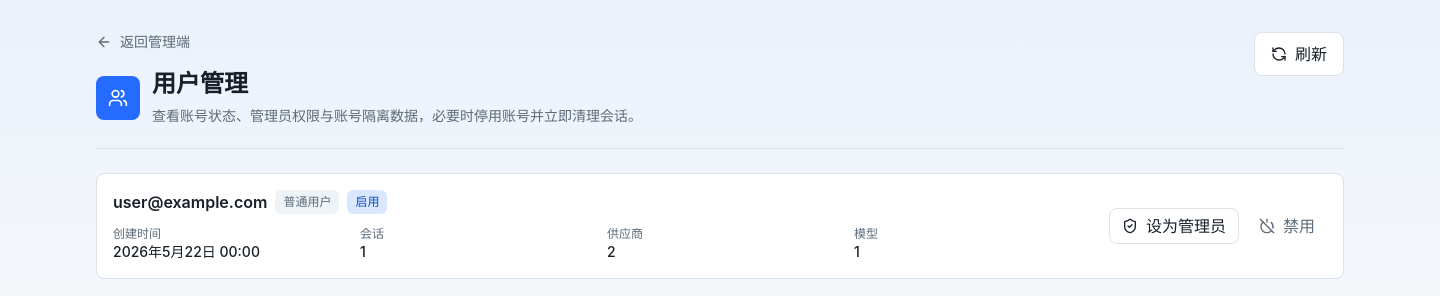
AdminUsersManagement › renders users and updates roles through the admin API
Expected: the heading "用户管理" is shown, [152, 69, 248, 98]
Expected: the heading "user@example.com" is shown, [113, 190, 267, 214]
Click the button "设为管理员" at (1174, 226), box [1109, 208, 1239, 244]
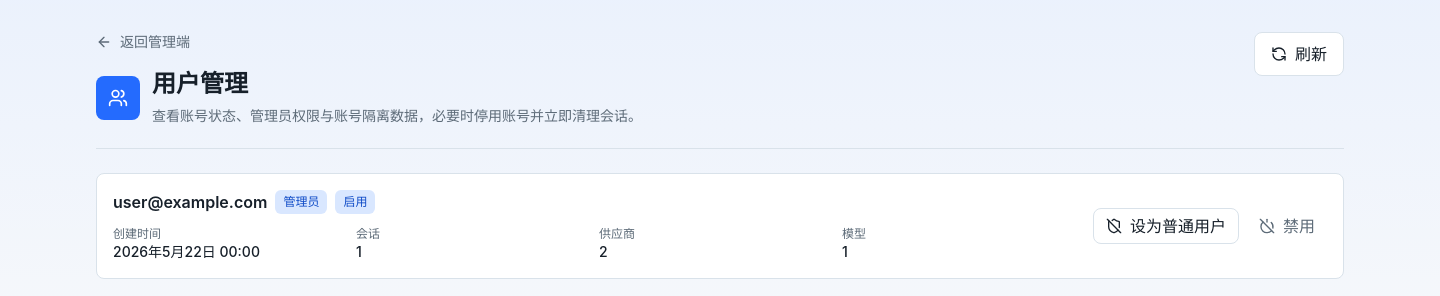
Expected: the text "管理员" is shown, [275, 190, 327, 214]
